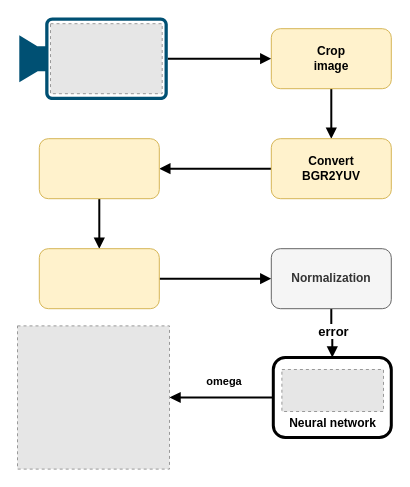
Some shapes in this 410 by 487 pixel diagram are drawn without their labels. Grey dashed boxes stand in for pictures. The centre of each missing label's shape, as x and y in pixels:
Gauss filter: (x=98, y=168)
Resize: (x=98, y=278)
